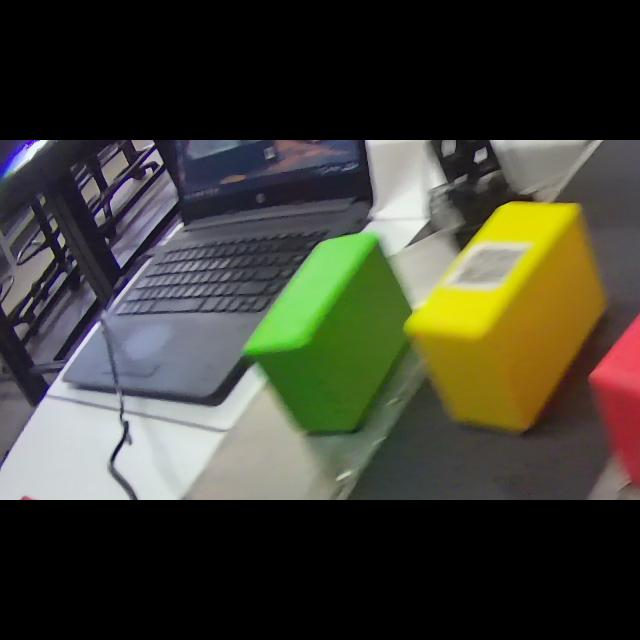greenBox: (238, 228, 420, 436)
redBox: (592, 228, 640, 500)
yellowBox: (406, 192, 608, 438)
